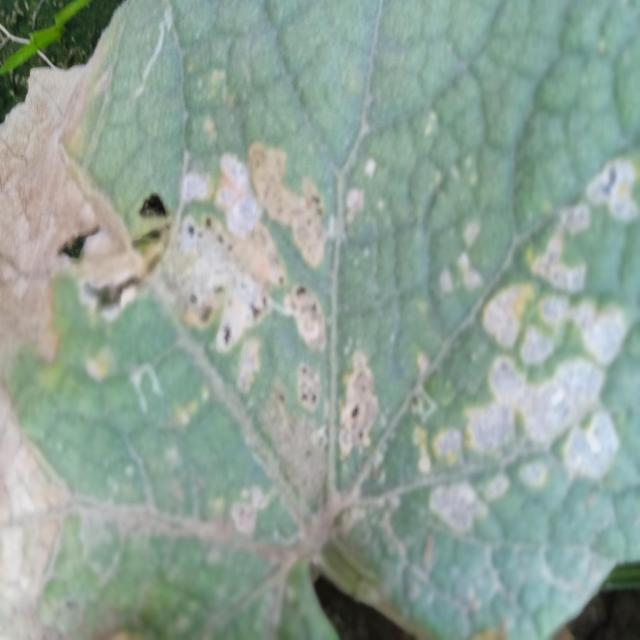cucumber_anthracnose: (51, 22, 627, 498)
